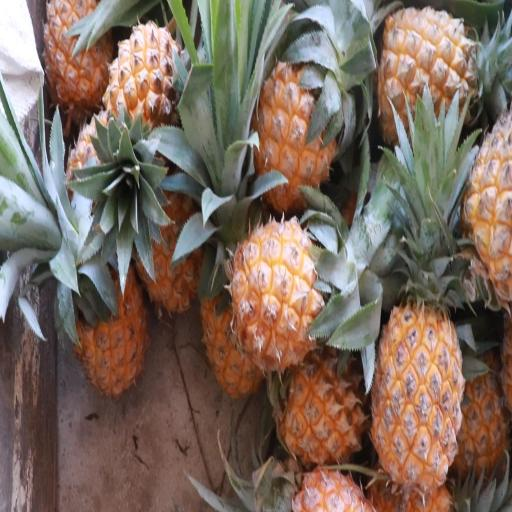Pineapple - v8 v1: (369, 267, 465, 498), (223, 208, 329, 378), (246, 51, 340, 219), (66, 213, 150, 400), (372, 7, 478, 146), (275, 338, 378, 475), (129, 147, 207, 322), (457, 98, 512, 316), (95, 5, 181, 141), (37, 0, 118, 111)
